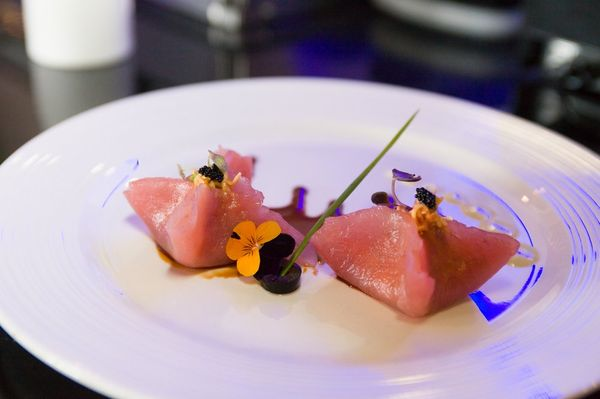pizza: (21, 1, 140, 133), (21, 1, 139, 74)
